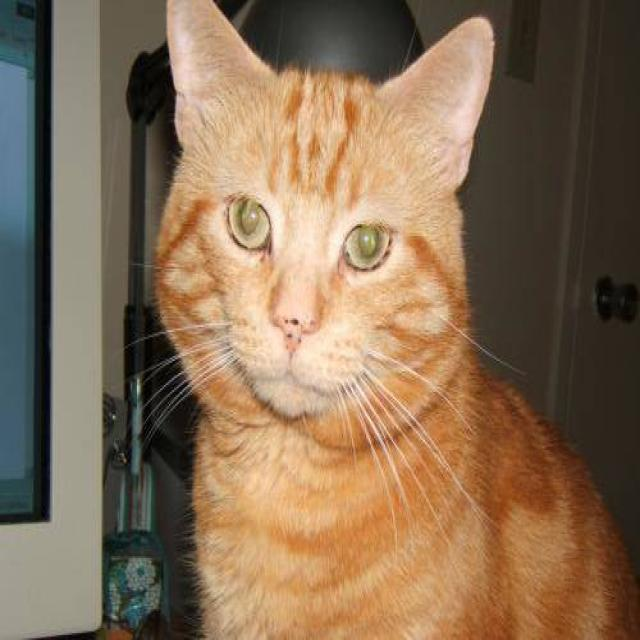cat: (126, 0, 638, 638)
